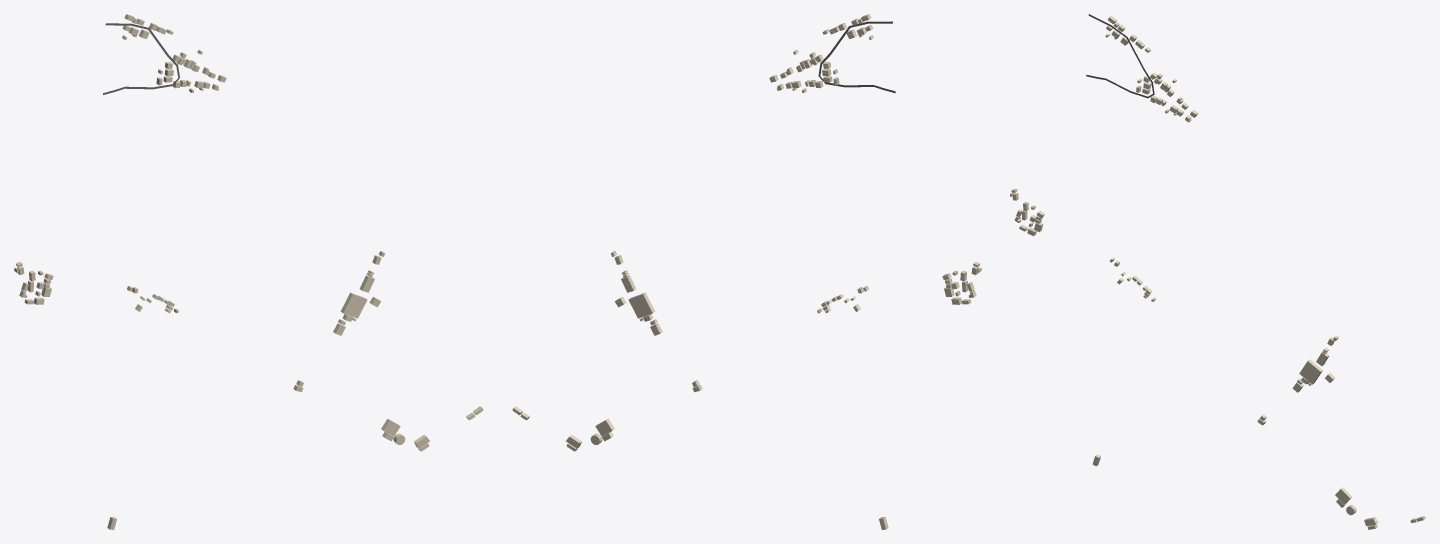
Rendered from historic-palestine-14_38_3560_3327.glb.
3 renders of one model, left to right at view 1: azimuth 30°, elevation 25°; view 2: azimuth 150°, elevation 25°; view 3: azimuth 330°, elevation 25°, orthographic. The views are drawn at different scales.
Bounding box in the file's own units: 785 × 820 × 8.7.
